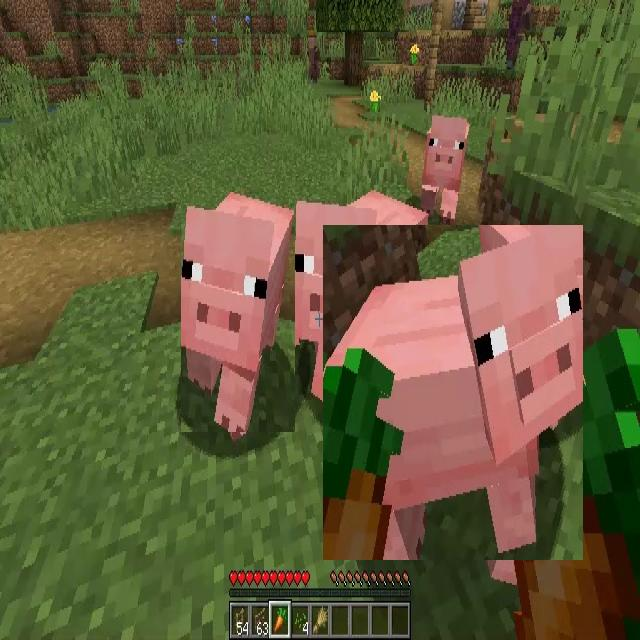flower: (370, 90, 380, 113)
pig: (323, 225, 583, 560), (181, 192, 295, 432), (294, 190, 433, 336), (419, 118, 470, 215)
